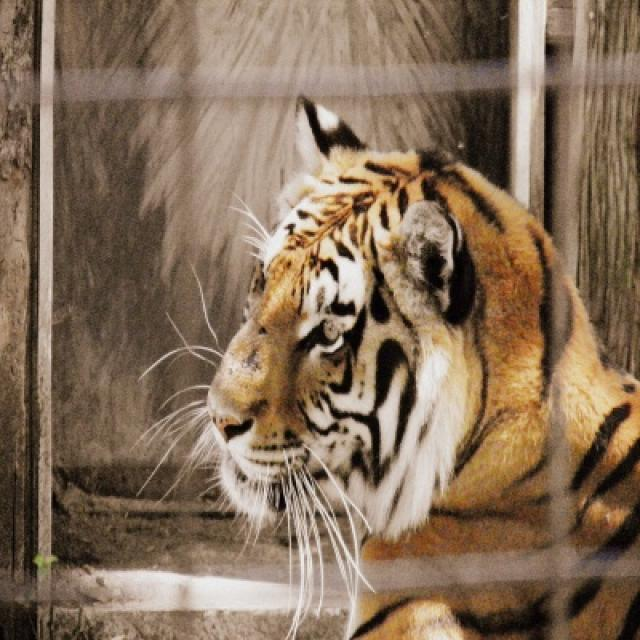Tiger: (206, 99, 638, 558), (354, 584, 549, 638)
